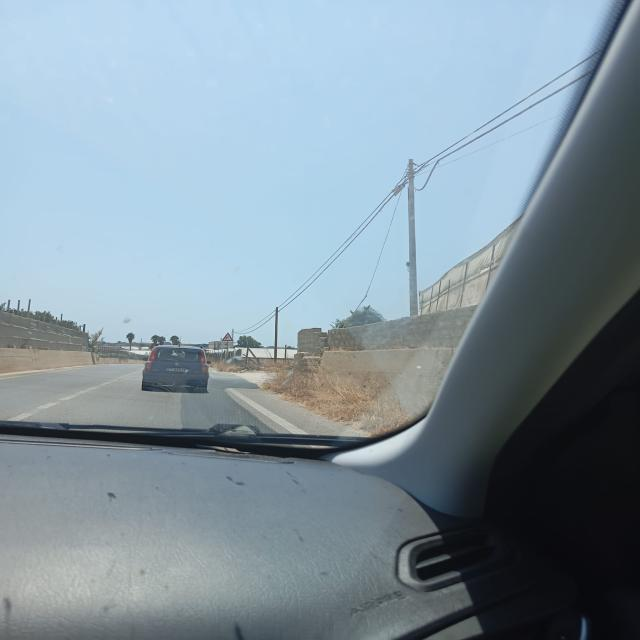warn_right_curve: (222, 333, 234, 342)
